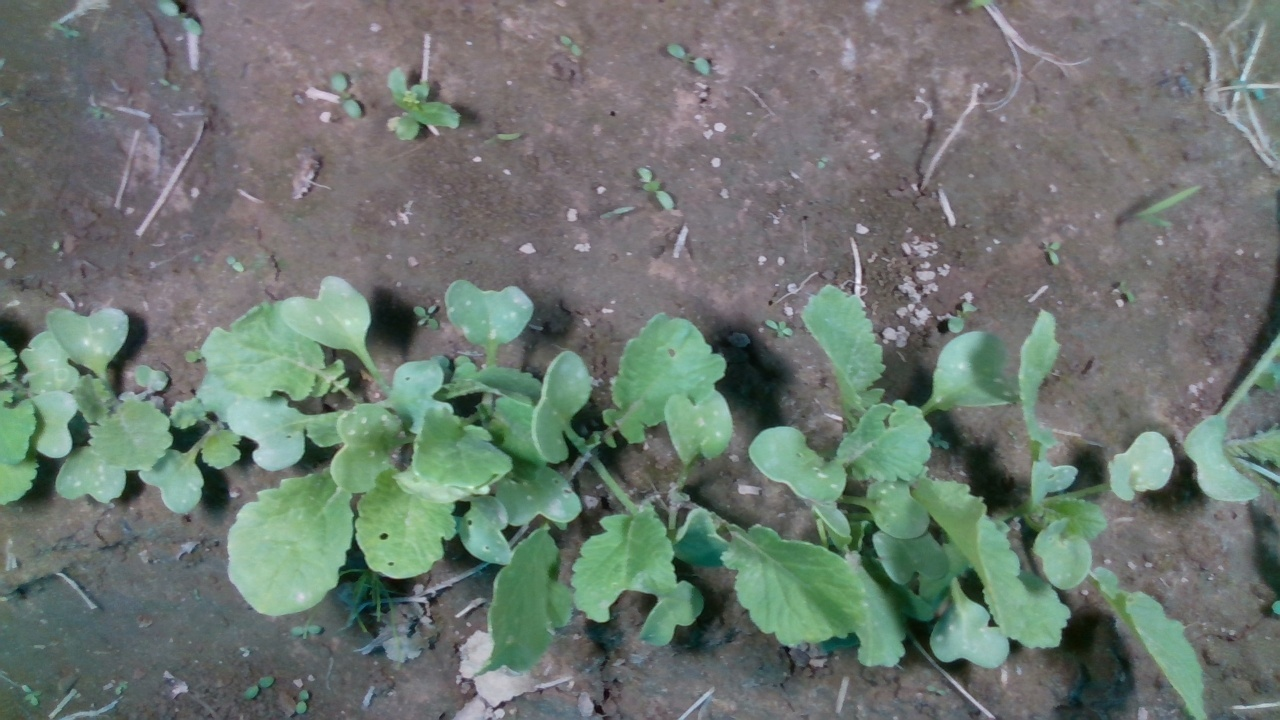weed: (637, 164, 677, 211), (331, 71, 362, 121), (666, 43, 711, 77), (240, 673, 276, 700), (763, 318, 794, 338), (561, 34, 583, 58), (290, 623, 321, 637), (295, 688, 308, 715)
